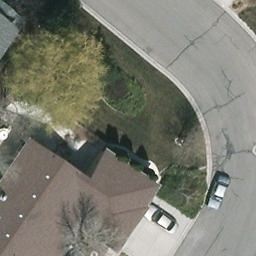car: (203, 175, 230, 213), (140, 205, 179, 231)
